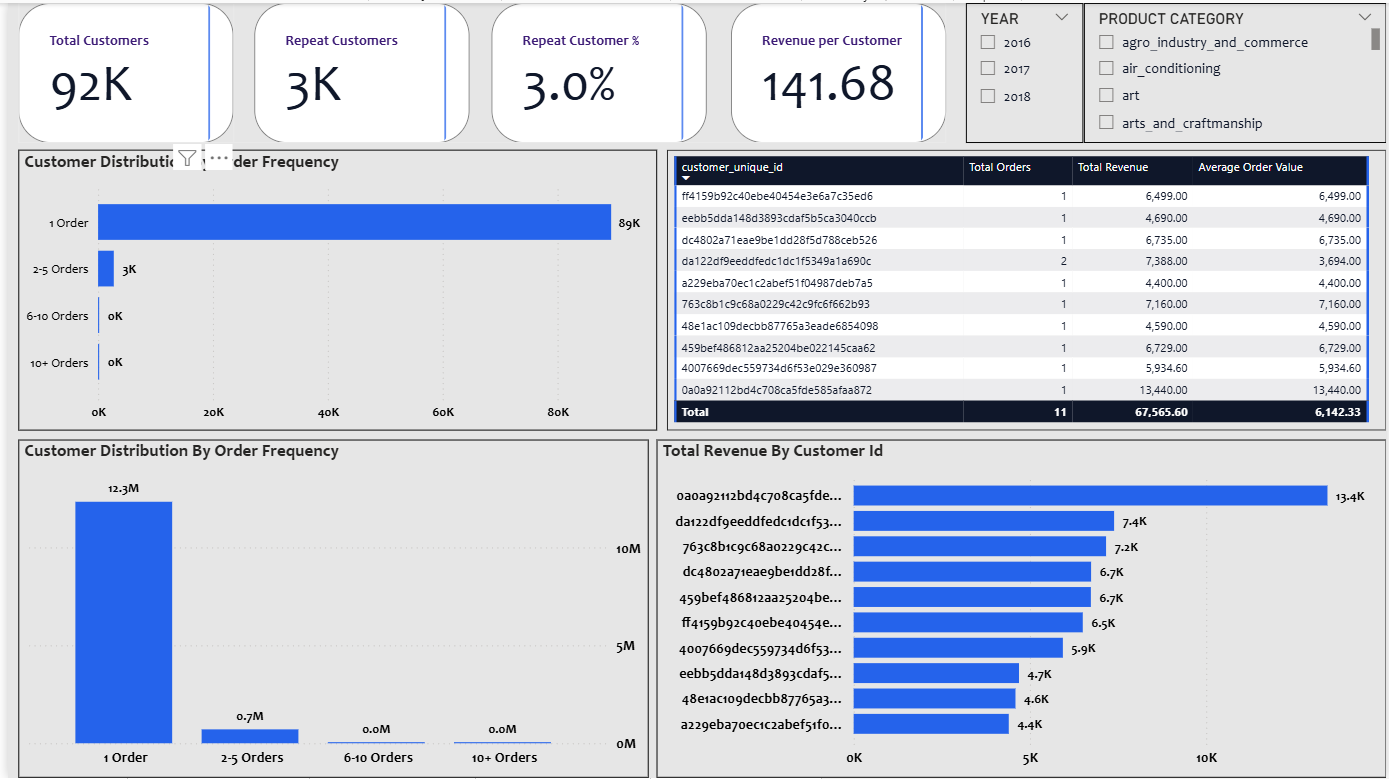

The page's visual inventory and layout, read from the dashboard file:
{"tool":"powerbi","page":{"name":"Customer Analytics","canvas":[1280,720],"ordinal":2},"visuals":[{"type":"cardVisual","fields":{"Data":["_measures.Total Customers"]},"box":[534.3,0,172.4,168.2],"z":0},{"type":"barChart","title":"Customer Distribution  By Order Frequency","fields":{"Y":["_measures.Total Customers"],"Category":["dim_customer.Customer Order Segment"]},"box":[8.5,182,592.9,244.8],"z":1000},{"type":"cardVisual","fields":{"Data":["_measures.Repeat Customers"]},"box":[723.7,0,172.6,168.2],"z":2000},{"type":"columnChart","title":"Customer Distribution  By Order Frequency","fields":{"Y":["_measures.Total Revenue"],"Category":["dim_customer.Customer Order Segment"]},"box":[9.6,448.1,585.4,261.8],"z":3000},{"type":"cardVisual","fields":{"Data":["_measures.Repeat Customer %"]},"box":[913.2,0,172.6,168.2],"z":4000},{"type":"tableEx","title":"Customer Order Value","fields":{"Values":["dim_customer.customer_unique_id","_measures.Total Orders","_measures.Total Revenue","_measures.Average Order Value"]},"box":[613.1,182,666.3,244.8],"z":5000},{"type":"barChart","title":"Total Revenue By Customer Id","fields":{"Category":["dim_customer.customer_unique_id"],"Y":["_measures.Total Revenue"]},"box":[613.1,448.1,659.9,261.8],"z":6000},{"type":"cardVisual","fields":{"Data":["_measures.Revenue per Customer"]},"box":[1104.7,0,172.6,168.2],"z":7000},{"type":"slicer","title":"Product Category","fields":{"Values":["dim_product.product_category_name_englist"]},"box":[243.8,67.1,279.9,93.7],"z":8000},{"type":"slicer","title":"Year","fields":{"Values":["dim_date.year"]},"box":[0,67.1,243.8,93.7],"z":9000}]}

Visuals, with their boxes in screenshot pixels (x1, y1, x2, y2), scaled from the page's 1280x720 canvas onto the 1389x779 screenshot:
cardVisual - _measures.Total Customers: (580, 0, 767, 182)
"Customer Distribution  By Order Frequency" barChart: (9, 197, 653, 462)
cardVisual - _measures.Repeat Customers: (785, 0, 973, 182)
"Customer Distribution  By Order Frequency" columnChart: (10, 485, 646, 768)
cardVisual - _measures.Repeat Customer %: (991, 0, 1178, 182)
"Customer Order Value" tableEx: (665, 197, 1388, 462)
"Total Revenue By Customer Id" barChart: (665, 485, 1381, 768)
cardVisual - _measures.Revenue per Customer: (1199, 0, 1386, 182)
"Product Category" slicer: (265, 73, 568, 174)
"Year" slicer: (0, 73, 265, 174)
